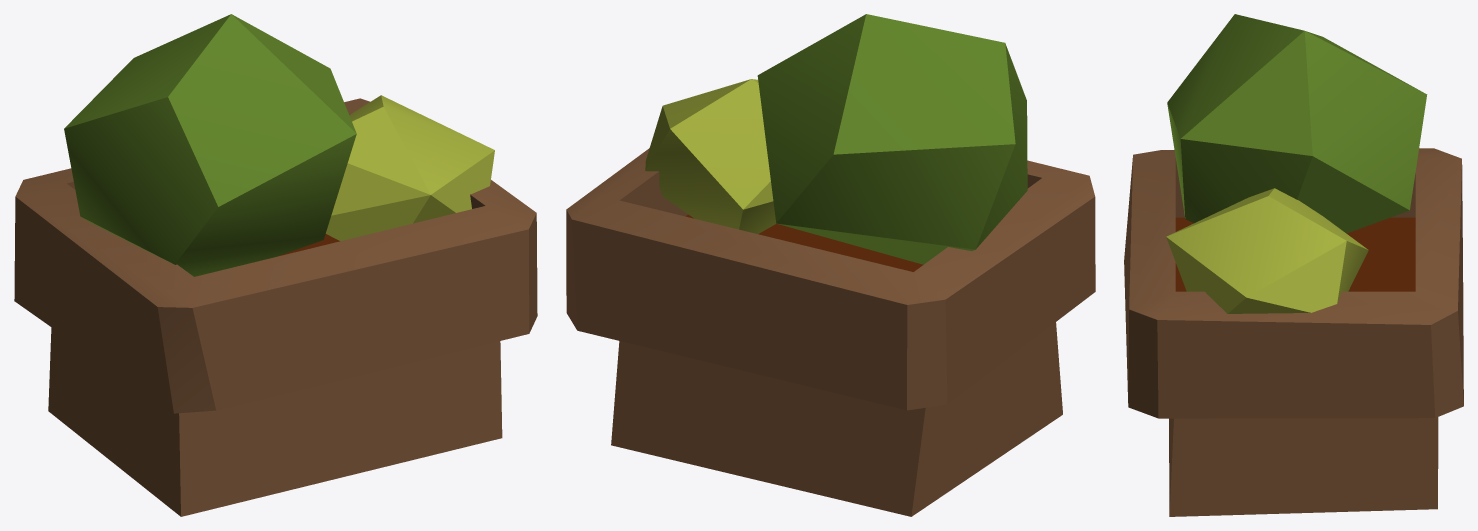
Rendered from Shrub 3.fbx.
3 views of the same model, side by side, from view 1: azimuth 30°, elevation 25°; view 2: azimuth 150°, elevation 25°; view 3: azimuth 270°, elevation 25° (orthographic). The views are drawn at different scales.
Visible parts, largest first — view 1: Shrub_03; view 2: Shrub_03; view 3: Shrub_03.
Part boxes in pixels (<box>): Shrub_03: <box>14,14,537,516</box>; Shrub_03: <box>566,14,1095,516</box>; Shrub_03: <box>1124,14,1463,516</box>.
Bounding box in the file's own units: 58.59 × 60.23 × 46.97.
